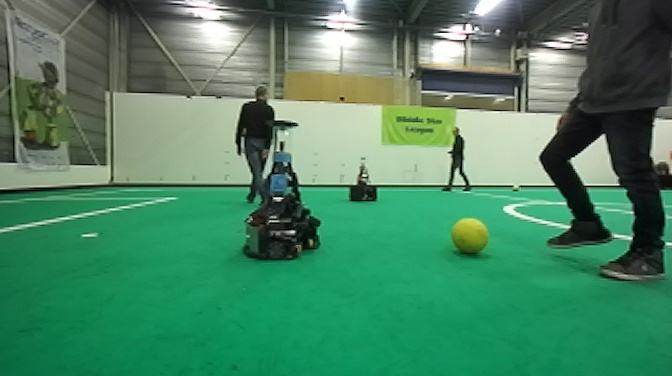ball: (449, 215, 491, 258), (509, 181, 523, 194)
human: (534, 1, 672, 283), (233, 85, 278, 205), (443, 125, 471, 191)
robot: (239, 119, 324, 262), (347, 154, 379, 204)
